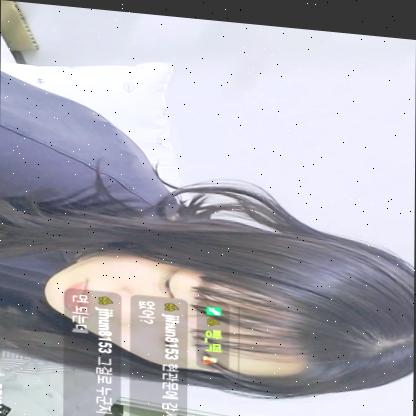streamer: (0, 63, 416, 406)
